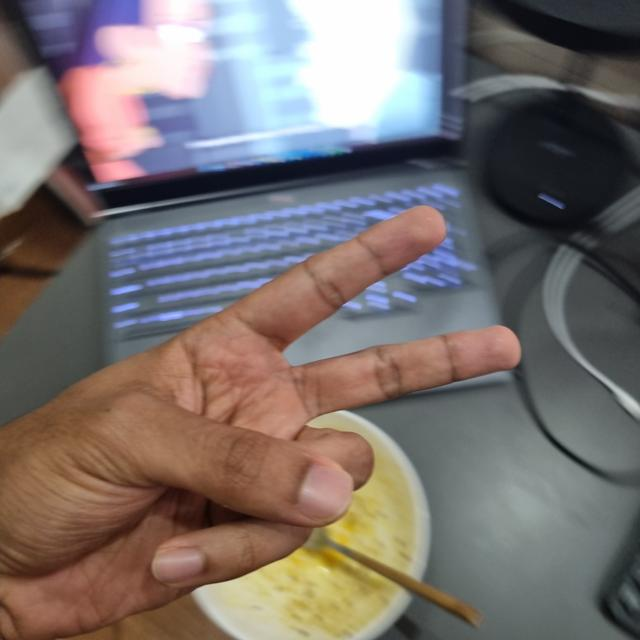Scissors: (0, 210, 516, 638)
